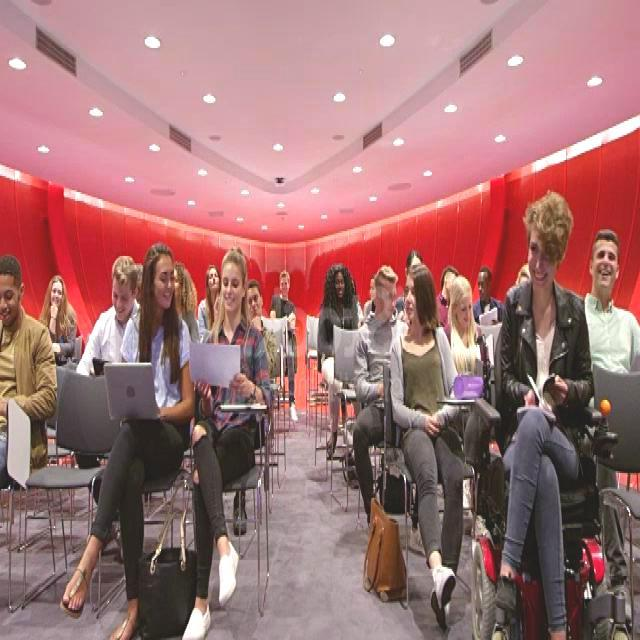Looking away: (147, 246, 176, 314), (0, 264, 23, 332), (220, 256, 244, 316), (375, 270, 398, 324), (402, 269, 421, 329), (454, 284, 474, 331), (477, 266, 492, 304), (206, 260, 218, 296)
Looking forward: (524, 208, 562, 300), (586, 232, 622, 298), (48, 272, 66, 312), (248, 280, 263, 320), (334, 266, 345, 298), (278, 268, 290, 296)
Phone use: (86, 253, 142, 375)
